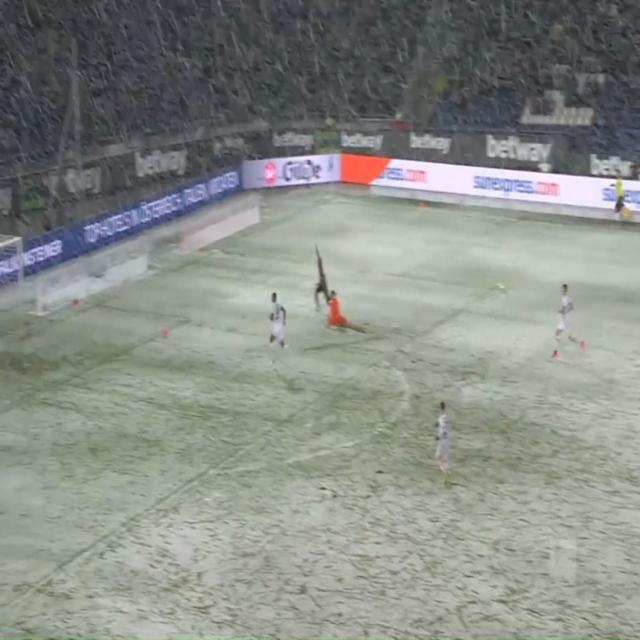ball: (161, 322, 170, 340)
goalkeeper: (323, 288, 367, 337)
player: (552, 280, 587, 365), (431, 391, 454, 491), (265, 284, 289, 368), (311, 244, 330, 313)
referee: (608, 162, 632, 230)
